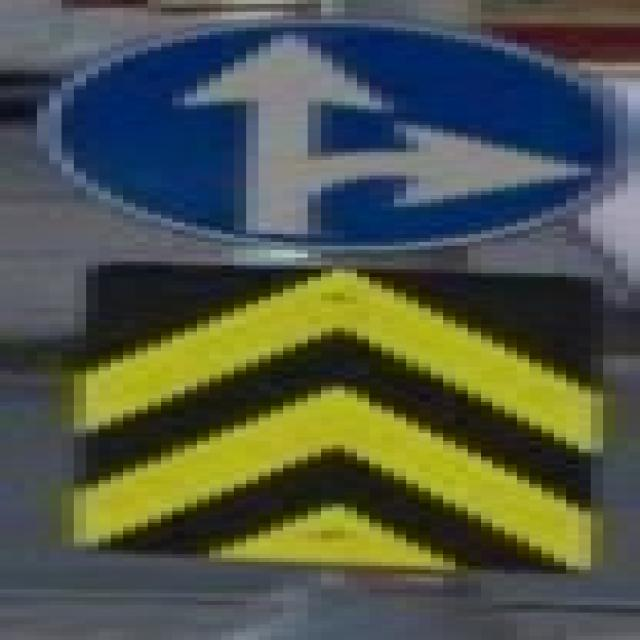Straight or Right: (38, 22, 629, 245)
